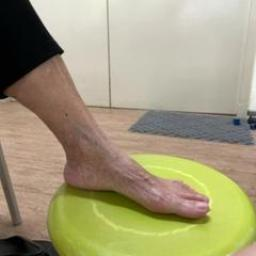Medial View -Left Foot-: (42, 123, 224, 240)
